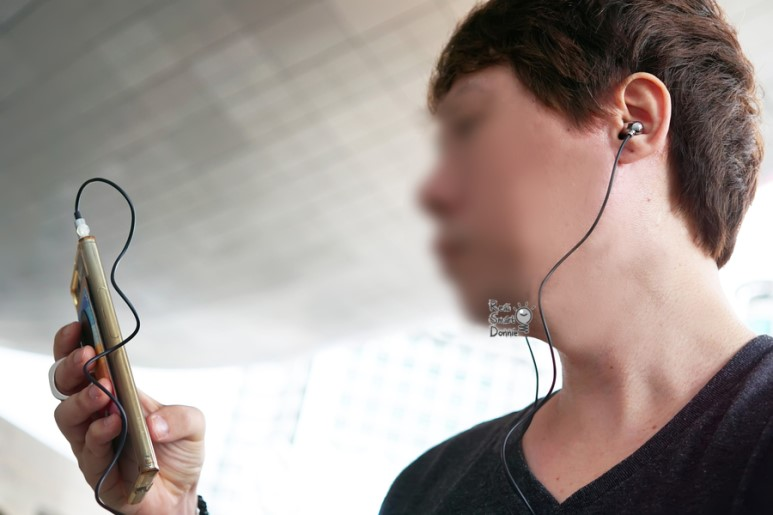earphone: (609, 71, 673, 165)
